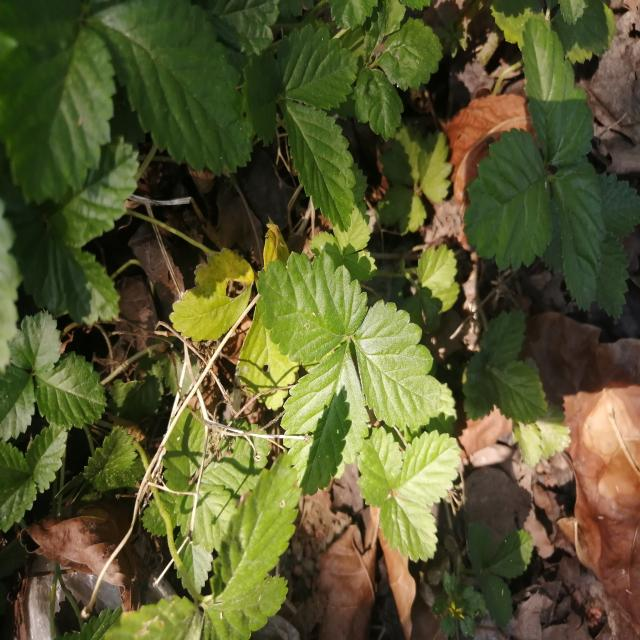Mock_strawberry: (264, 244, 468, 550)
